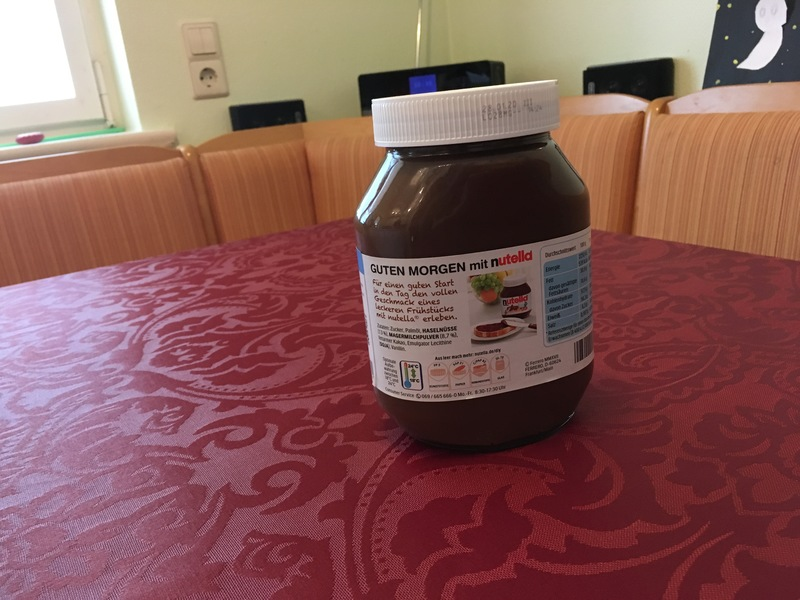nutella: (356, 79, 595, 457)
